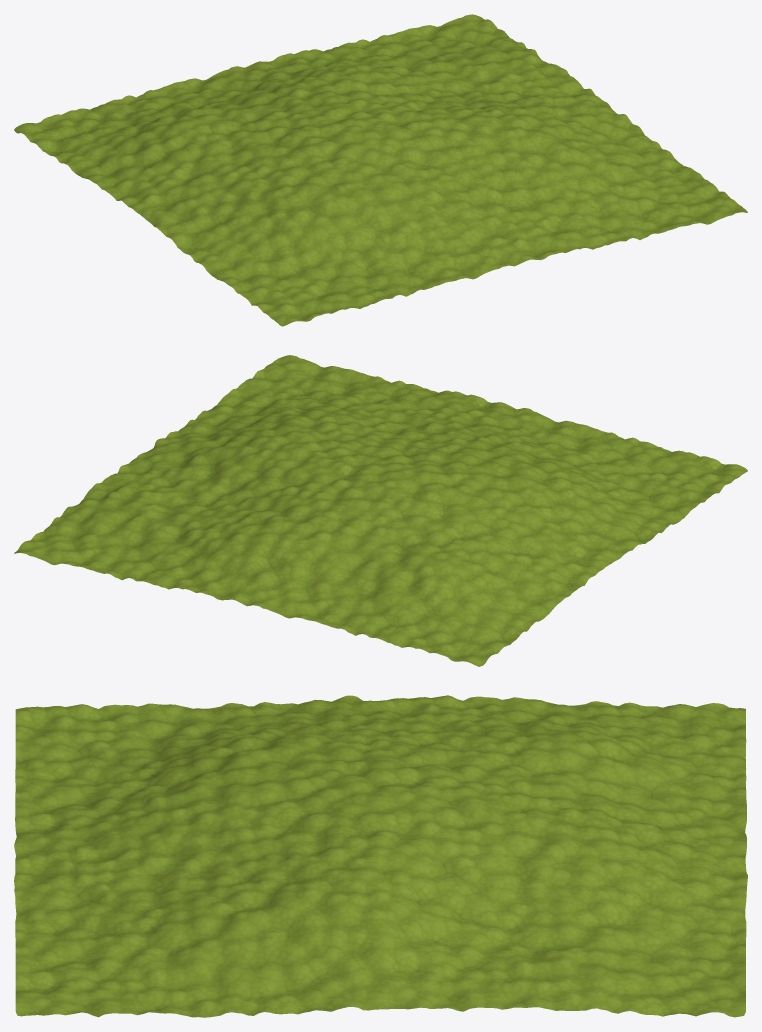
File: mossPlane_1.fbx
3 renders of one model, top to bottom at view 1: azimuth 30°, elevation 25°; view 2: azimuth 150°, elevation 25°; view 3: azimuth 270°, elevation 25°, orthographic. The views are drawn at different scales.
Visible parts, largest first — view 1: mossPlane1_LOD0; view 2: mossPlane1_LOD0; view 3: mossPlane1_LOD0.
Part boxes in pixels (box(x1,y1,x2,y2)): mossPlane1_LOD0: box(14, 14, 747, 326); mossPlane1_LOD0: box(14, 355, 747, 666); mossPlane1_LOD0: box(14, 695, 747, 1017).
Size of what is drawn, in the model's own units: 200 by 18.03 by 200.
